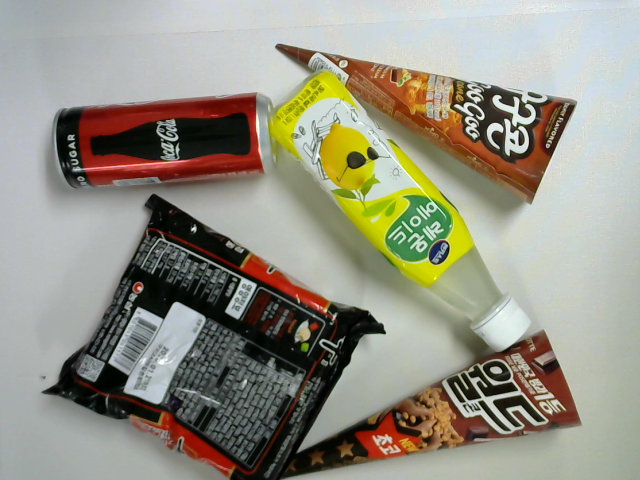Coca_Cola_Zero_Can_250ml: (53, 90, 277, 189)
GooGoo_Cone_CVS: (272, 43, 578, 207)
Sinramen_Black: (38, 194, 385, 477)
Sunkist_Lemonaid_Pet: (272, 68, 533, 355)
World_Cone_Choco: (280, 325, 583, 475)
